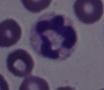N: (29, 13, 80, 62)
